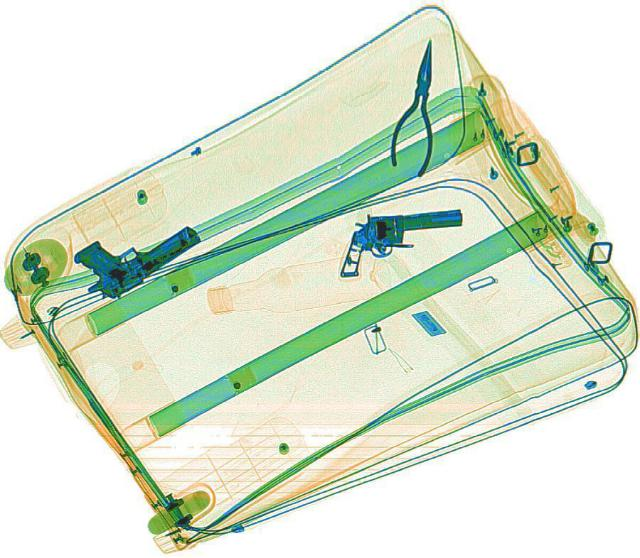Gun: (57, 196, 205, 306), (334, 206, 468, 277)
Pliers: (386, 35, 446, 176)
